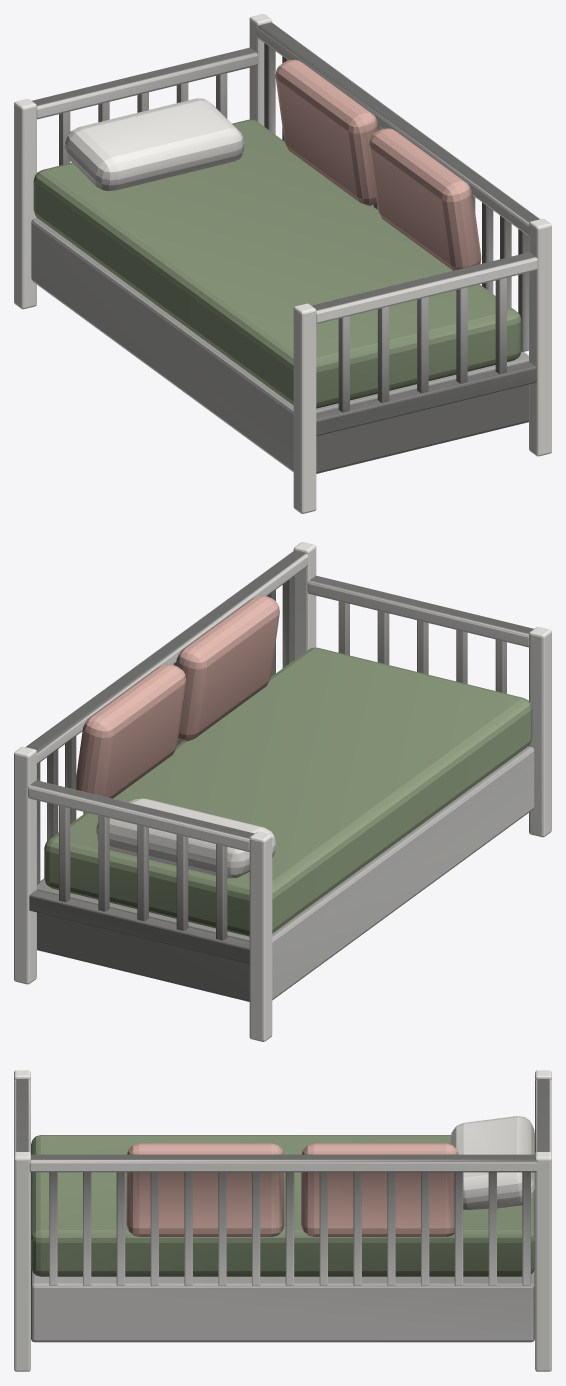
Rendered from bedDaybed.glb.
3 views of the same model, one above another, from view 1: azimuth 30°, elevation 25°; view 2: azimuth 150°, elevation 25°; view 3: azimuth 270°, elevation 25° (orthographic). The views are drawn at different scales.
Visible parts, largest first — view 1: bedDaybed; view 2: bedDaybed; view 3: bedDaybed.
Boxes of the visible parts, x1,y1,x2,y2 form: bedDaybed: (14, 14, 551, 513); bedDaybed: (14, 542, 551, 1041); bedDaybed: (14, 1070, 551, 1371).
Bounding box in the file's own units: 0.96 × 0.84 × 1.91.
